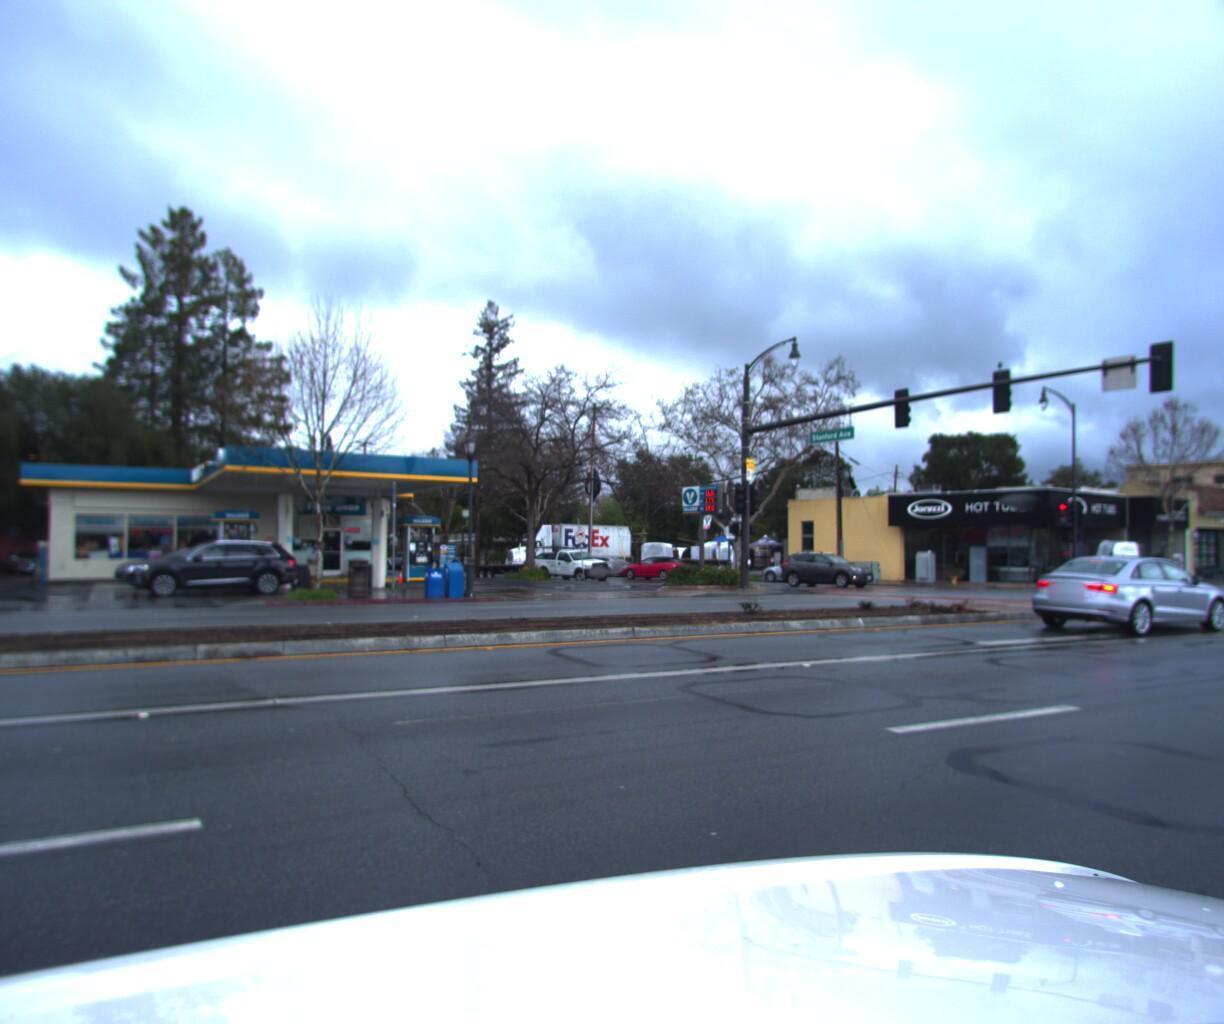car: (1019, 539, 1224, 633), (123, 540, 307, 603), (112, 546, 271, 606), (774, 541, 877, 580), (530, 543, 617, 584), (758, 548, 844, 579), (618, 554, 693, 581), (2, 551, 61, 580), (570, 547, 634, 573)
